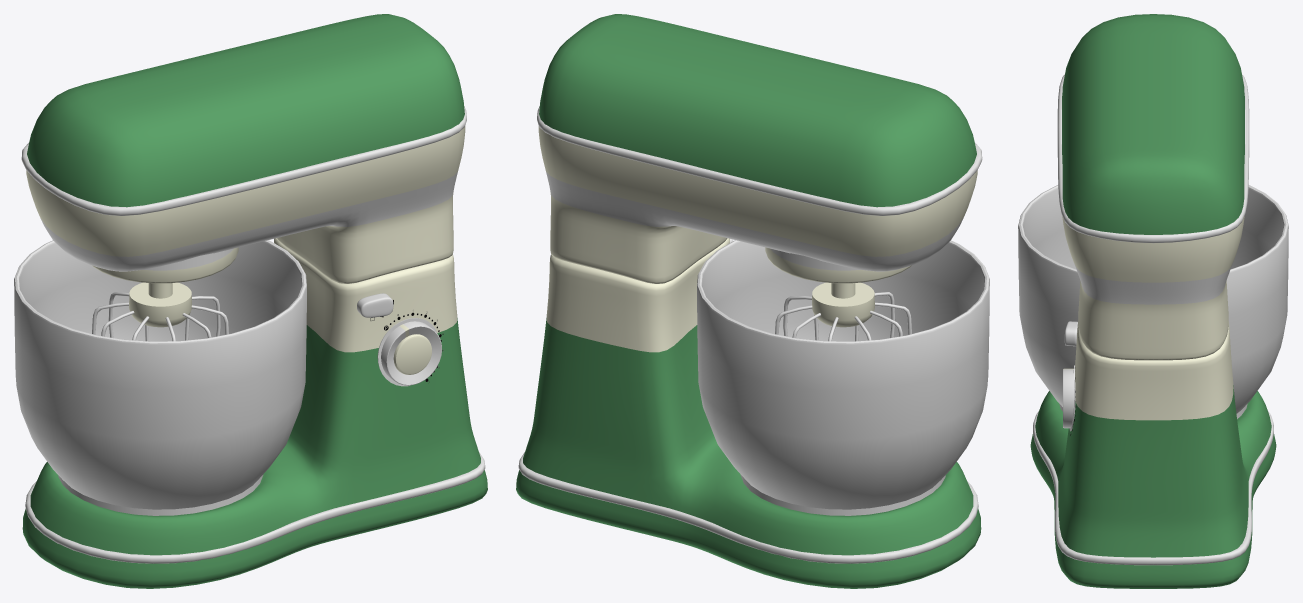
Rendered from mixer.glb.
3 renders of one model, left to right at view 1: azimuth 30°, elevation 25°; view 2: azimuth 150°, elevation 25°; view 3: azimuth 270°, elevation 25°, orthographic. The views are drawn at different scales.
Parts seen in each view (by area): view 1: Cube, Cylinder, Cube.003, Cube.001, Cylinder.002, Cylinder.004, Cylinder.001, Plane.002, Cube.002; view 2: Cube, Cylinder, Cube.003, Cube.001, Cylinder.004, Cylinder.001, Plane.002; view 3: Cube, Cylinder, Cube.003, Cube.001, Cylinder.002.
Part boxes in pixels (<box>): Cube: <box>22,14,487,588</box>; Cylinder: <box>14,240,306,515</box>; Cube.003: <box>25,452,485,563</box>; Cube.001: <box>21,106,466,215</box>; Cylinder.002: <box>381,321,441,385</box>; Cylinder.004: <box>129,282,191,327</box>; Cylinder.001: <box>92,247,238,283</box>; Plane.002: <box>92,292,228,341</box>; Cube.002: <box>357,293,393,317</box>; Cube: <box>516,14,981,588</box>; Cylinder: <box>697,240,989,515</box>; Cube.003: <box>518,452,978,563</box>; Cube.001: <box>537,106,982,215</box>; Cylinder.004: <box>812,282,874,327</box>; Cylinder.001: <box>765,247,911,283</box>; Plane.002: <box>775,292,911,341</box>; Cube: <box>1030,14,1276,588</box>; Cylinder: <box>1018,185,1288,418</box>; Cube.003: <box>1033,411,1273,565</box>; Cube.001: <box>1057,74,1249,243</box>; Cylinder.002: <box>1063,368,1074,428</box>.
Bounding box in the file's own units: 6.24 × 6.29 × 3.76.
Materials: 4 (1 with a texture image).
